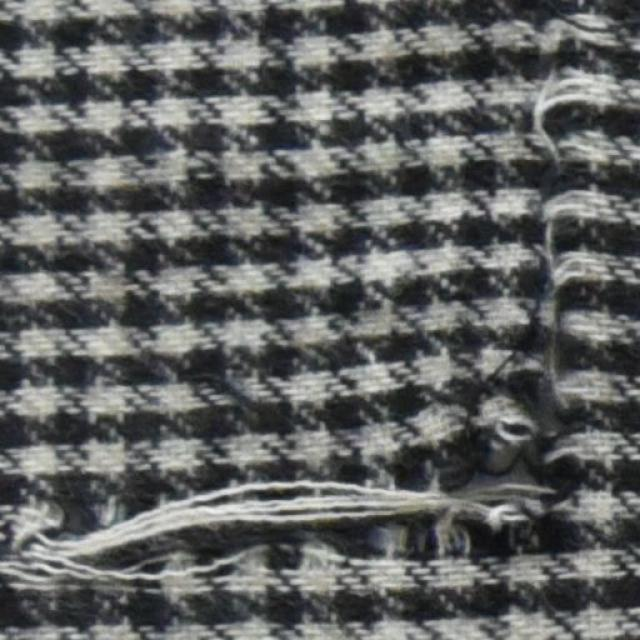Hole: (420, 428, 539, 545)
Snag: (0, 449, 503, 592), (475, 0, 616, 499)
